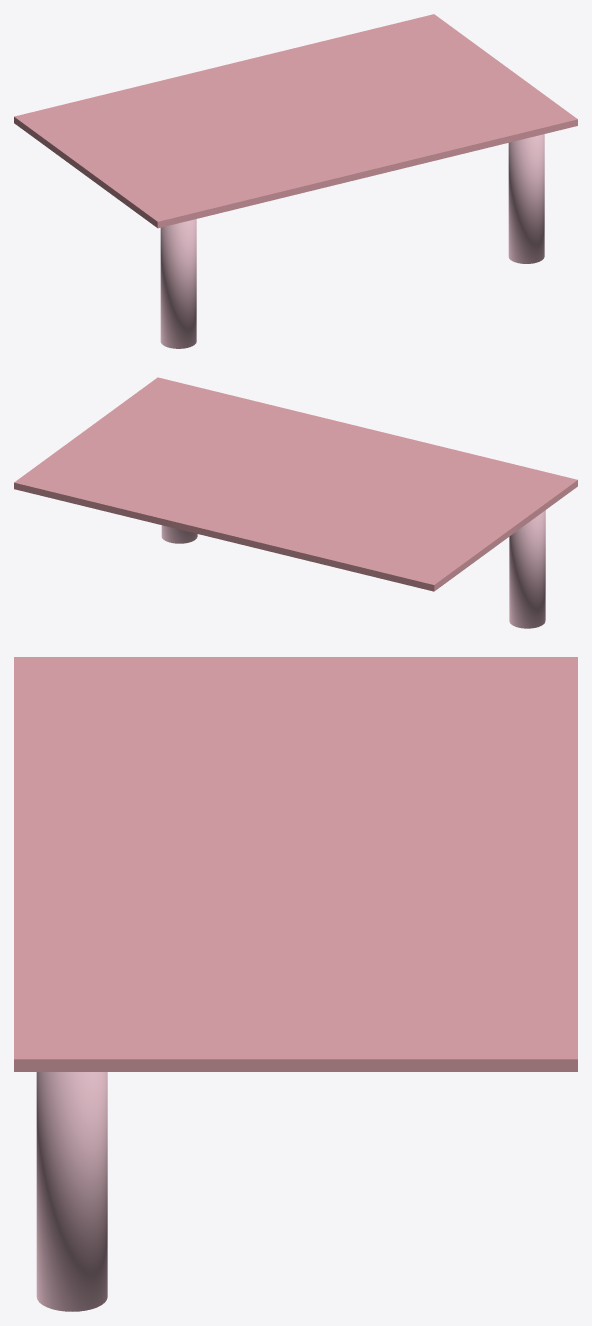
The model's file is deskprinter.fbx.
3 renders of one model, top to bottom at view 1: azimuth 30°, elevation 25°; view 2: azimuth 150°, elevation 25°; view 3: azimuth 270°, elevation 25°, orthographic. The views are drawn at different scales.
Visible parts, largest first — view 1: Plane, Cylinder.001, Cylinder; view 2: Plane, Cylinder, Cylinder.001; view 3: Plane, Cylinder.001.
Part boxes in pixels (x1=…): Plane: x1=14, y1=14, x2=577, y2=228; Cylinder.001: x1=508, y1=134, x2=544, y2=263; Cylinder: x1=160, y1=219, x2=196, y2=348; Plane: x1=14, y1=377, x2=577, y2=591; Cylinder: x1=509, y1=510, x2=545, y2=628; Cylinder.001: x1=161, y1=525, x2=197, y2=543; Plane: x1=14, y1=657, x2=577, y2=1071; Cylinder.001: x1=36, y1=1072, x2=107, y2=1311.
Bounding box in the file's own units: 871 × 275 × 516.
